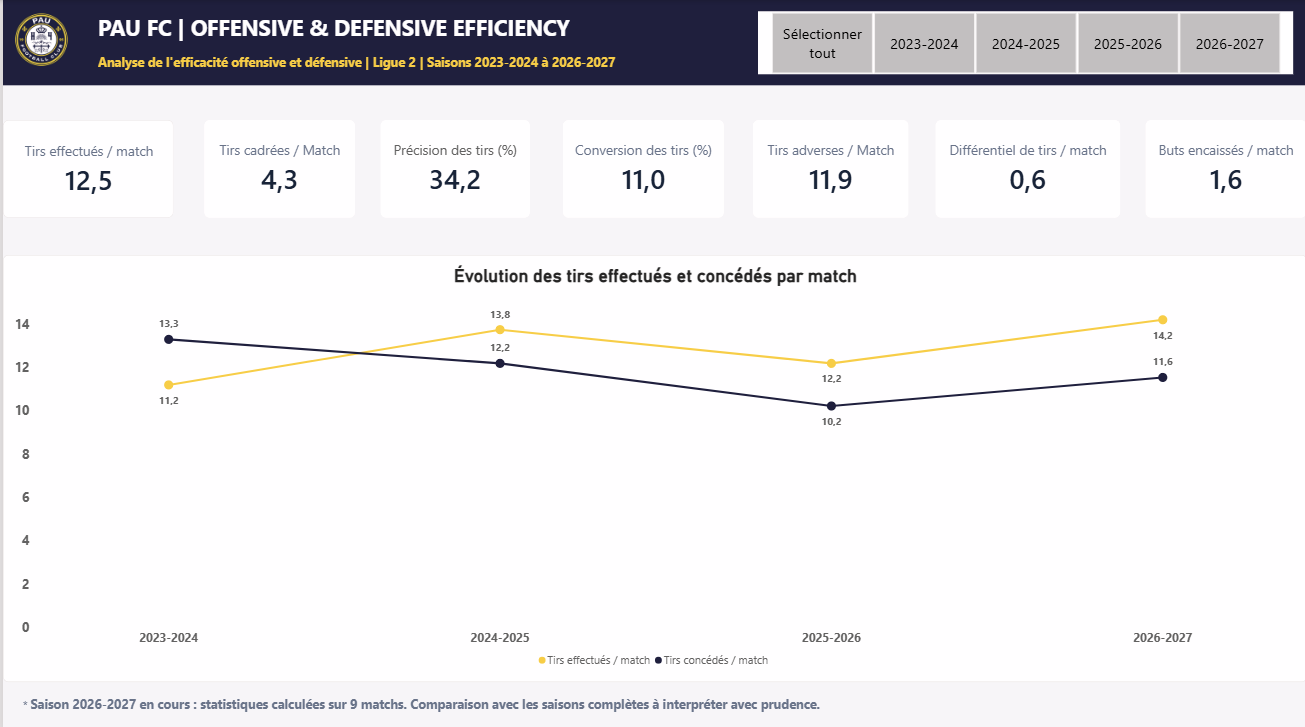

This screenshot's page, from the dashboard's own definition file:
{"tool":"powerbi","page":{"name":"02 - Offensive & Defensive Efficiency","canvas":[1920,1080],"ordinal":1},"visuals":[{"type":"shape","box":[0,0,1920,125.8],"z":0},{"type":"textbox","box":[139.6,0,834.2,153.4],"z":1000},{"type":"cardVisual","fields":{"Data":["analytics fct_match_performance.Shots Per Match"]},"box":[0,175.8,251.6,144.8],"z":2000},{"type":"cardVisual","fields":{"Data":["analytics fct_match_performance.Shots On Target Per Match"]},"box":[296.4,175.8,222.3,144.8],"z":3000},{"type":"cardVisual","fields":{"Data":["analytics fct_match_performance.Shot Accuracy"]},"box":[556.7,175.8,220.6,144.8],"z":4000},{"type":"cardVisual","fields":{"Data":["analytics fct_match_performance.Shot Conversion Rate"]},"box":[823.8,175.8,237.8,144.8],"z":5000},{"type":"cardVisual","fields":{"Data":["analytics fct_match_performance.Opponent Shots Per Match"]},"box":[1104.8,175.8,229.2,144.8],"z":6000},{"type":"lineChart","title":"Évolution des tirs effectués et concédés par match","fields":{"Category":["dim_season.season"],"Y":["analytics fct_match_performance.Shots Per Match","analytics fct_match_performance.Opponent Shots Per Match"]},"box":[0,375.7,1920,629.1],"z":7000},{"type":"image","box":[17.2,19,80,80],"z":8000},{"type":"textbox","box":[29.3,1004.8,1416.7,75.8],"z":9000},{"type":"cardVisual","fields":{"Data":["analytics fct_match_performance.Shot Differential Per Match"]},"box":[1373.6,175.8,272.3,144.8],"z":10000},{"type":"cardVisual","fields":{"Data":["analytics fct_match_performance.Goals Conceded Per Match"]},"box":[1682.2,175.8,237.8,144.8],"z":11000},{"type":"slicer","fields":{"Values":["dim_season.season"]},"box":[1111.3,16.5,787.8,92.9],"z":12000}]}

Visuals, with their boxes in screenshot pixels (x1, y1, x2, y2), scaled from the page's 1920x1080 canvas onto the 1305x727 screenshot:
shape: box(0, 0, 1304, 85)
textbox: box(95, 0, 662, 103)
cardVisual - analytics fct_match_performance.Shots Per Match: box(0, 118, 171, 216)
cardVisual - analytics fct_match_performance.Shots On Target Per Match: box(201, 118, 353, 216)
cardVisual - analytics fct_match_performance.Shot Accuracy: box(378, 118, 528, 216)
cardVisual - analytics fct_match_performance.Shot Conversion Rate: box(560, 118, 722, 216)
cardVisual - analytics fct_match_performance.Opponent Shots Per Match: box(751, 118, 907, 216)
"Évolution des tirs effectués et concédés par match" lineChart: box(0, 253, 1304, 676)
image: box(12, 13, 66, 67)
textbox: box(20, 676, 983, 726)
cardVisual - analytics fct_match_performance.Shot Differential Per Match: box(934, 118, 1119, 216)
cardVisual - analytics fct_match_performance.Goals Conceded Per Match: box(1143, 118, 1304, 216)
slicer - dim_season.season: box(755, 11, 1291, 74)
